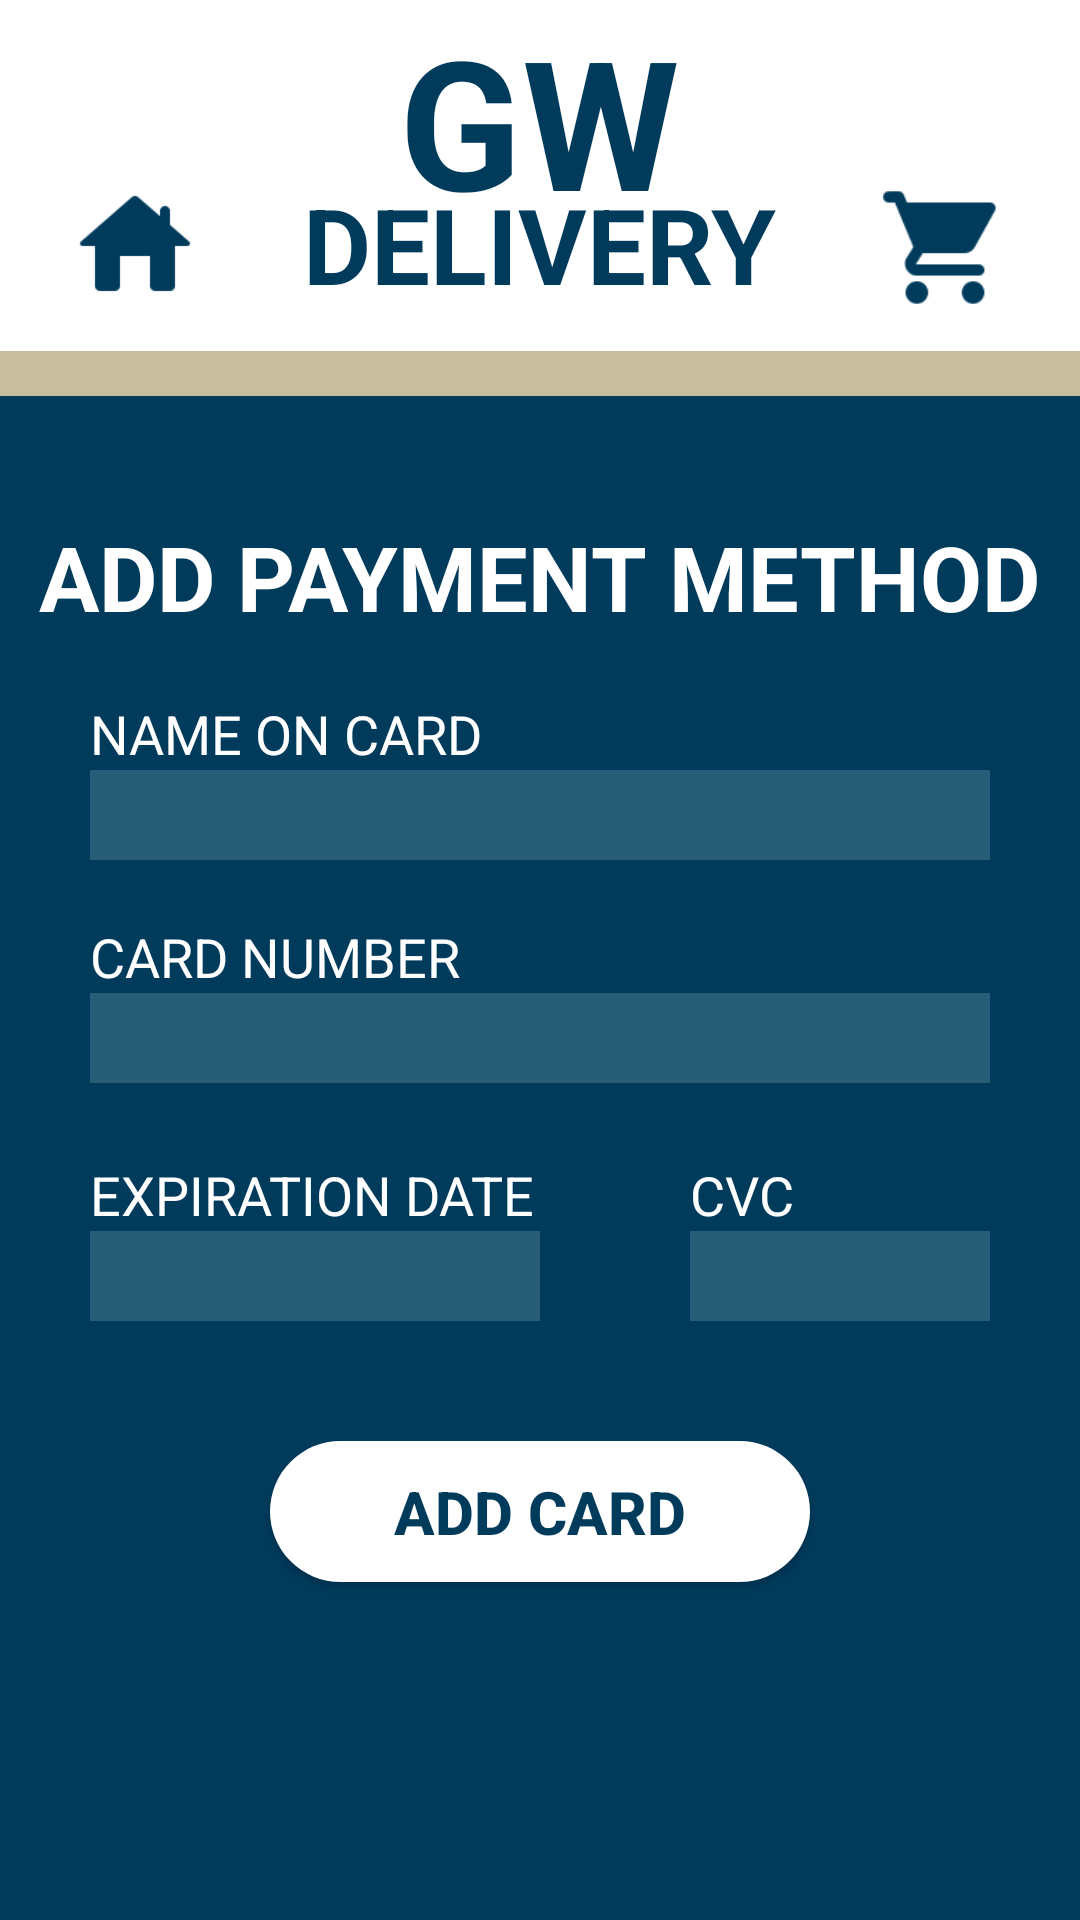

Icon click points for this 1080×1920 phone screenshot, format [x,y]:
home: [135,244]
shopping cart: [939,247]
